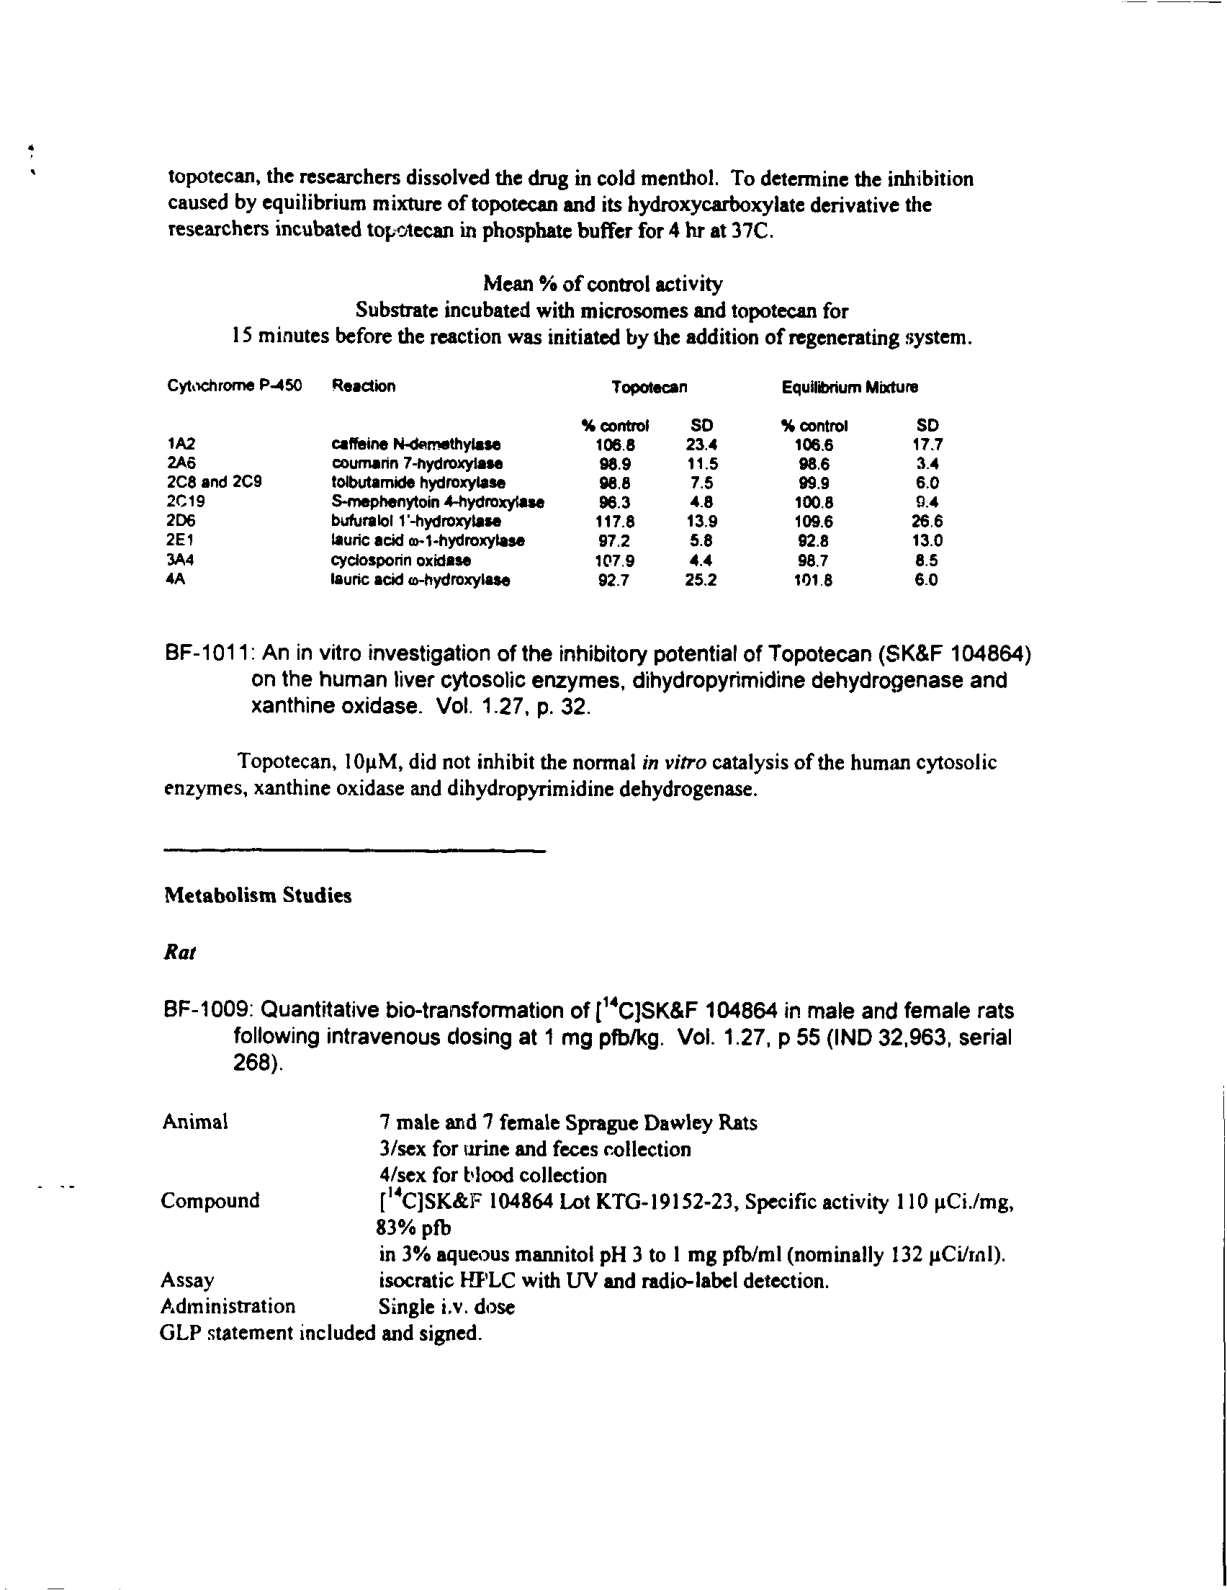nolines: (159, 1106, 1016, 1345), (161, 372, 946, 591)
